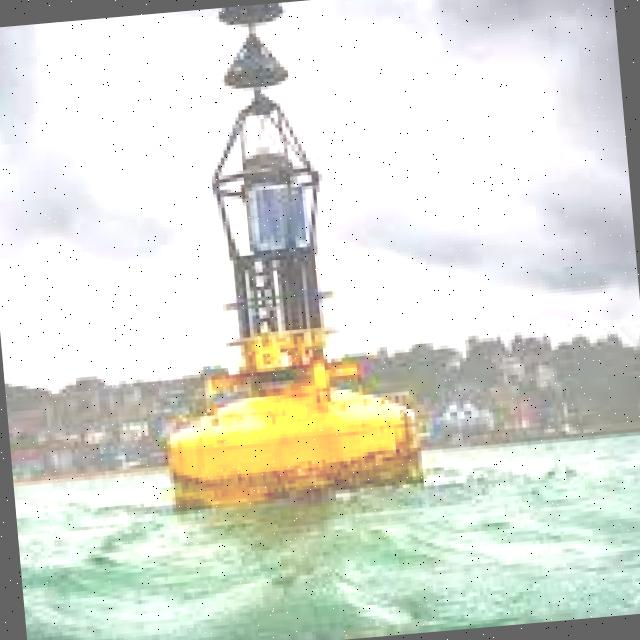marque: (119, 1, 432, 516)
